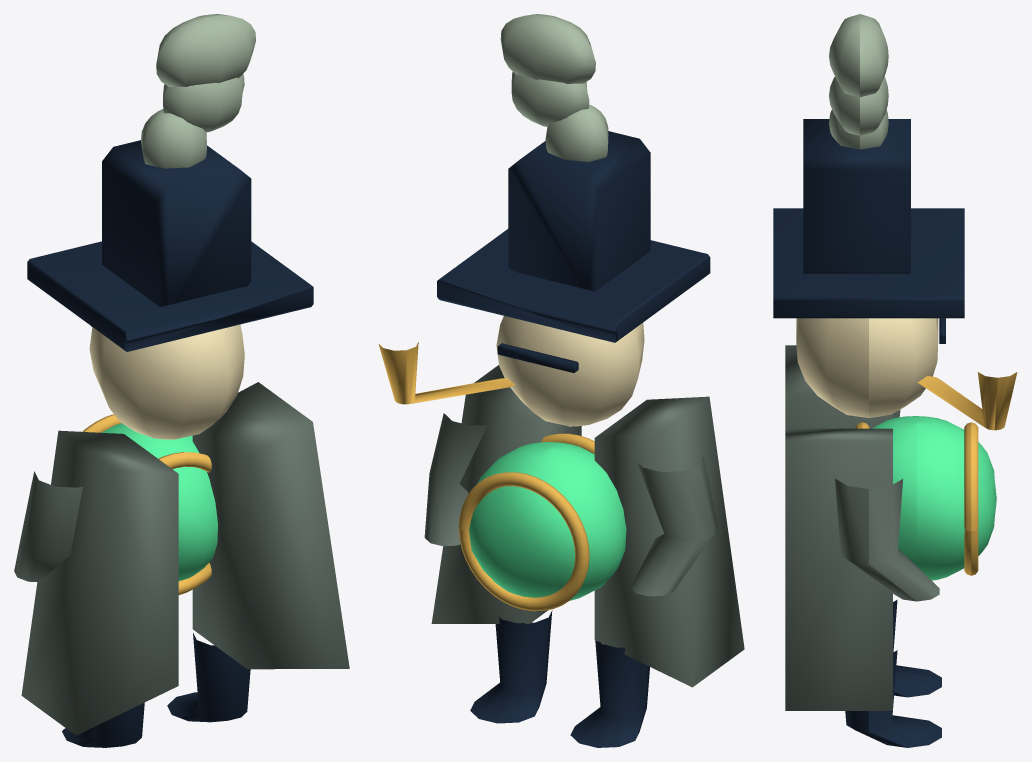
Rendered from hero_smoker.glb.
3 renders of one model, left to right at view 1: azimuth 30°, elevation 25°; view 2: azimuth 150°, elevation 25°; view 3: azimuth 270°, elevation 25°, orthographic. The views are drawn at different scales.
Visible parts, largest first — view 1: SplitCoat (×2), ChimneyHat, HatBrim, Skull, AshSmoke (×3), Boot (×2), GlassCore, Sleeve, GiltOrbRim; view 2: SplitCoat (×2), ChimneyHat, GlassCore, HatBrim, Sleeve (×2), AshSmoke (×3), Skull, Boot (×2), GiltOrbRim, LongPipe, HollowEyes; view 3: SplitCoat (×2), ChimneyHat, HatBrim, GlassCore, Skull, AshSmoke (×3), Sleeve, Boot (×2), LongPipe, GiltOrbRim.
Part boxes in pixels (<box>): SplitCoat (×2): <box>21,382,349,735</box>; ChimneyHat: <box>102,140,251,306</box>; HatBrim: <box>27,241,313,351</box>; Skull: <box>89,324,244,439</box>; AshSmoke (×3): <box>141,14,255,168</box>; Boot (×2): <box>62,633,250,747</box>; GlassCore: <box>101,423,217,580</box>; Sleeve: <box>14,471,82,581</box>; GiltOrbRim: <box>158,452,211,594</box>; SplitCoat (×2): <box>431,365,744,687</box>; ChimneyHat: <box>508,131,650,291</box>; GlassCore: <box>469,442,626,600</box>; HatBrim: <box>437,229,710,342</box>; Sleeve (×2): <box>424,413,717,596</box>; AshSmoke (×3): <box>500,14,608,161</box>; Skull: <box>496,316,644,426</box>; Boot (×2): <box>470,610,649,747</box>; GiltOrbRim: <box>458,472,589,611</box>; LongPipe: <box>378,342,514,404</box>; HollowEyes: <box>497,343,578,372</box>; SplitCoat (×2): <box>785,345,892,710</box>; ChimneyHat: <box>803,119,910,273</box>; HatBrim: <box>773,208,964,318</box>; GlassCore: <box>872,416,996,580</box>; Skull: <box>796,318,938,417</box>; AshSmoke (×3): <box>829,14,888,149</box>; Sleeve: <box>835,479,939,601</box>; Boot (×2): <box>845,599,941,747</box>; LongPipe: <box>917,372,1017,430</box>; GiltOrbRim: <box>964,422,978,575</box>.
Size of the model in its own units: 0.7135 by 1.65 by 0.5202.
